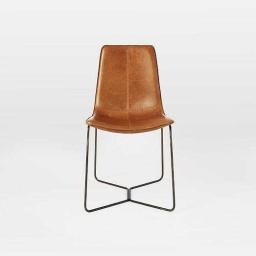Chair: (86, 44, 176, 212)
